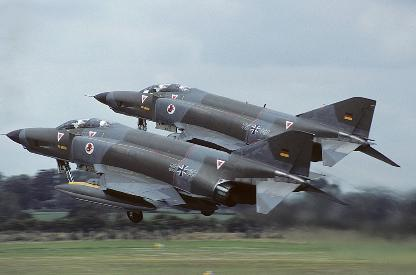F35: (0, 117, 348, 222), (84, 83, 400, 166)
